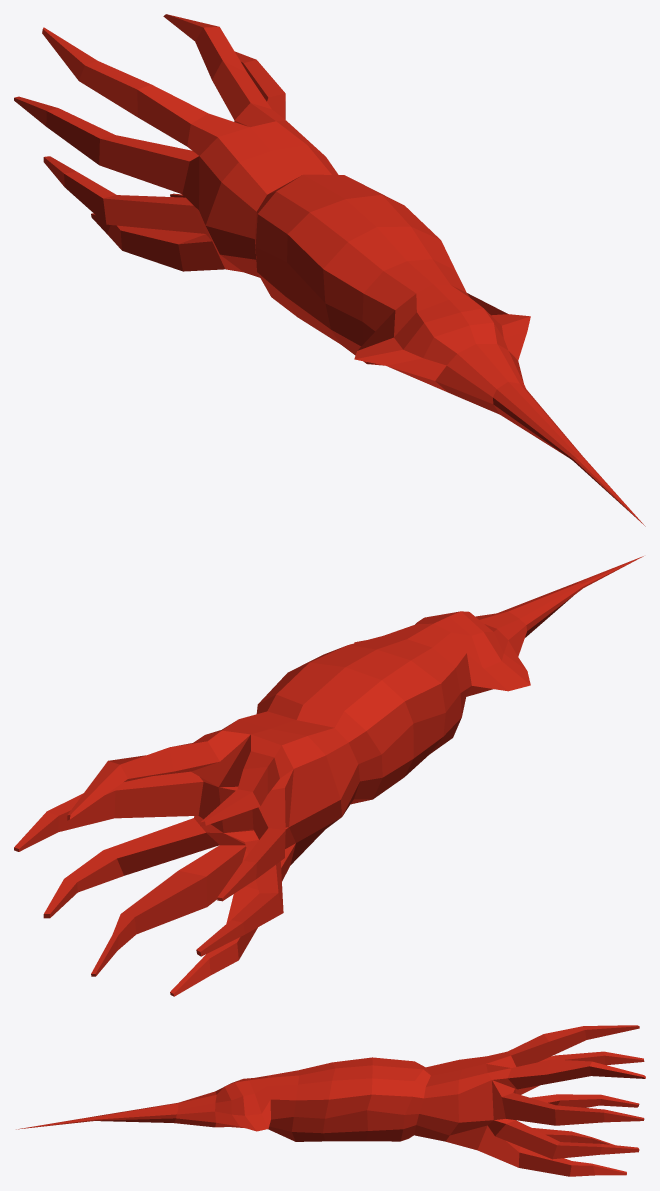
Rendered from uploads_files_2454899_Squid.obj.
3 views of the same model, one above another, from view 1: azimuth 30°, elevation 25°; view 2: azimuth 150°, elevation 25°; view 3: azimuth 270°, elevation 25° (orthographic). The views are drawn at different scales.
Parts seen in each view (by area): view 1: Squid_SquidMesh; view 2: Squid_SquidMesh; view 3: Squid_SquidMesh.
Boxes of the visible parts, x1=… form: Squid_SquidMesh: x1=14, y1=14, x2=645, y2=526; Squid_SquidMesh: x1=14, y1=556, x2=643, y2=996; Squid_SquidMesh: x1=16, y1=1025, x2=645, y2=1176.
Size of the model in its own units: 0.4566 by 0.3981 by 1.99.
